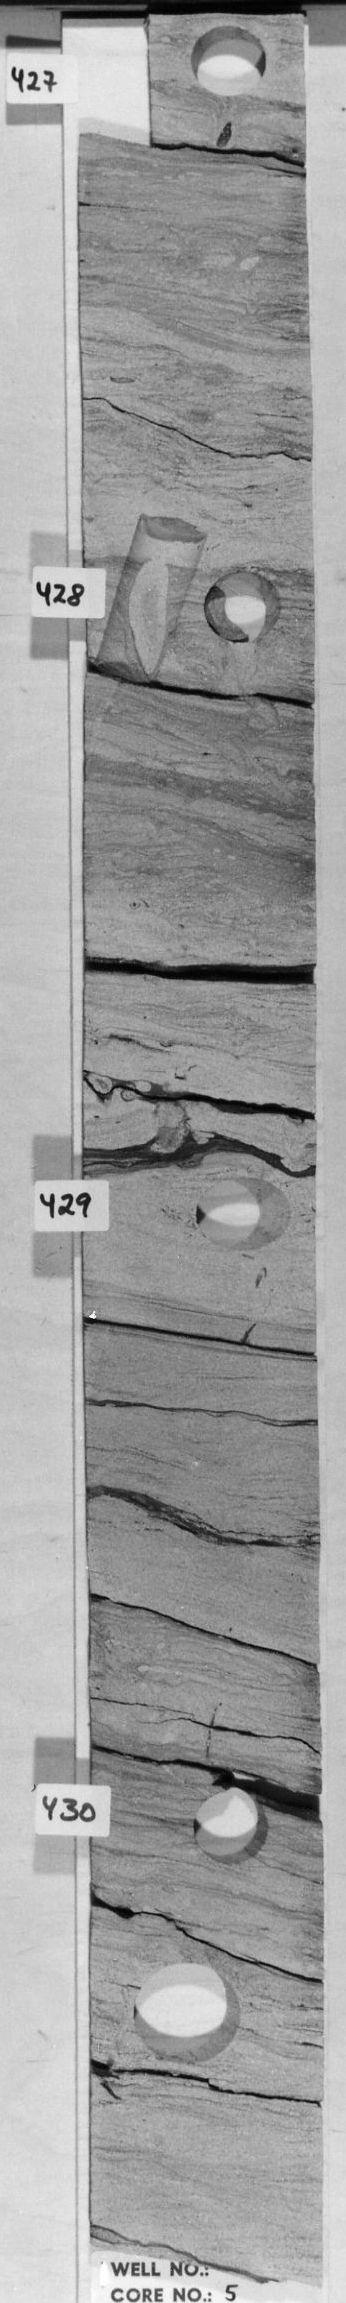hplug: (188, 1171, 298, 1253), (185, 1789, 277, 1873), (180, 23, 271, 100), (204, 564, 284, 648)
scal: (126, 1959, 252, 2069)
vplug: (89, 517, 207, 689), (82, 18, 161, 157)
